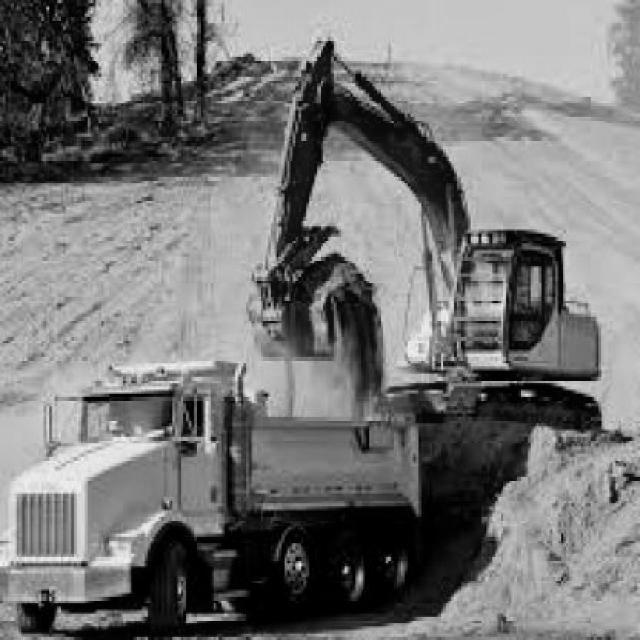Box Truck: (4, 361, 424, 636)
Construction Equipment: (250, 40, 604, 433)
